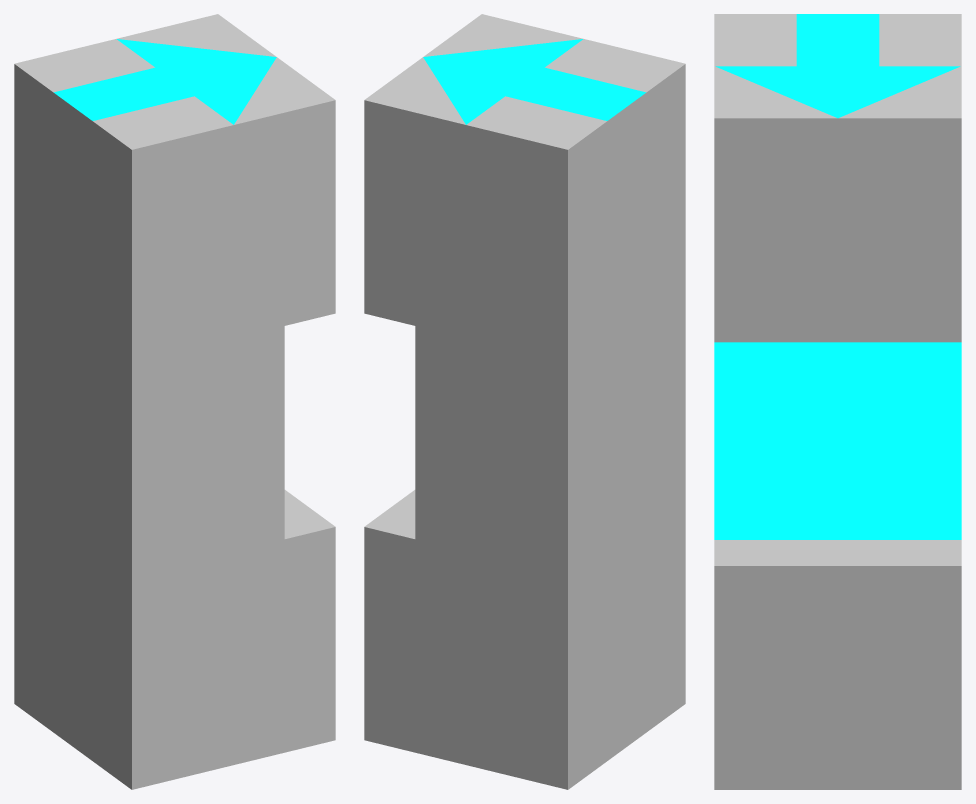
Rendered from input.glb.
The picture shows the model from 3 angles, left to right: view 1: azimuth 30°, elevation 25°; view 2: azimuth 150°, elevation 25°; view 3: azimuth 270°, elevation 25°; orthographic projection. The views are drawn at different scales.
Visible parts, largest first — view 1: Cube; view 2: Cube; view 3: Cube.
Part boxes in pixels (left/top/right/bottom): Cube: left=14, top=14, right=335, bottom=789; Cube: left=364, top=14, right=685, bottom=789; Cube: left=714, top=14, right=961, bottom=789.
Size of the model in its own units: 1 by 3 by 1.
